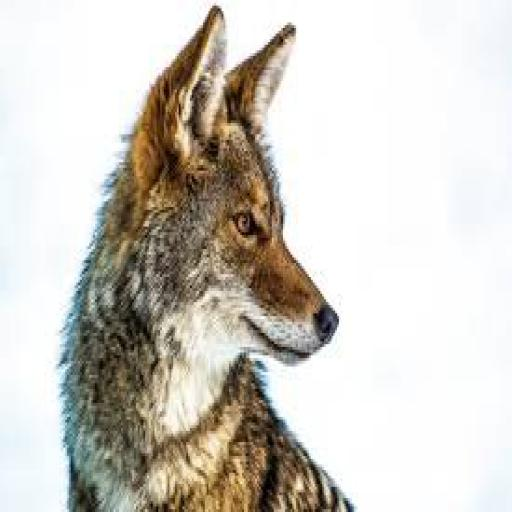wolf: (35, 0, 380, 512)
